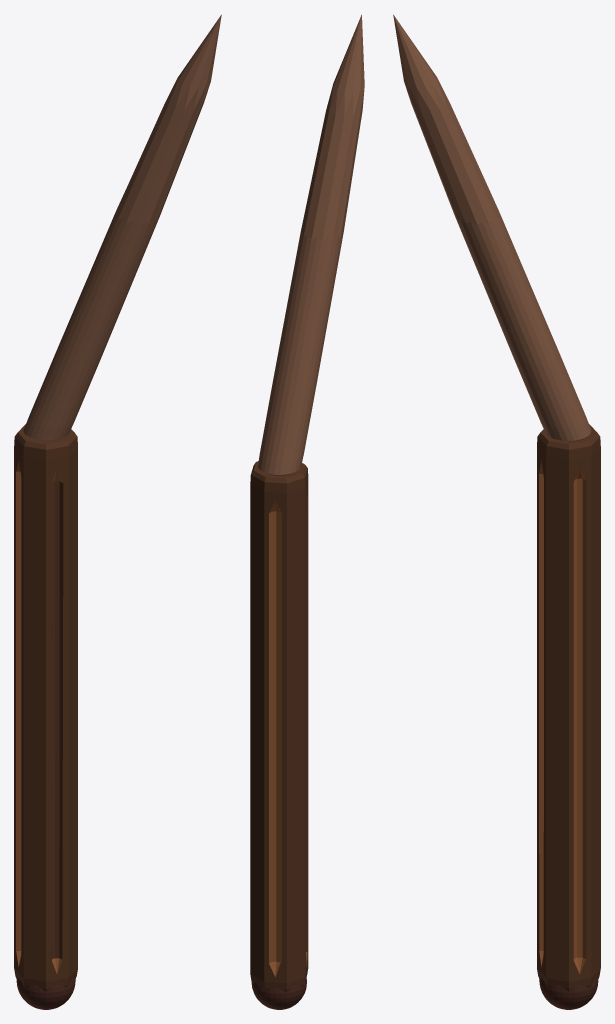
The model's file is Wand 593.glb.
The picture shows the model from 3 angles, left to right: view 1: azimuth 90°, elevation 25°; view 2: azimuth 150°, elevation 25°; view 3: azimuth 270°, elevation 25°; orthographic projection. The views are drawn at different scales.
Visible parts, largest first — view 1: GeneratedWand; view 2: GeneratedWand; view 3: GeneratedWand.
Part boxes in pixels (bbox=[...]): GeneratedWand: bbox=[14, 14, 221, 1009]; GeneratedWand: bbox=[250, 14, 364, 1009]; GeneratedWand: bbox=[393, 14, 600, 1009].
Size of the model in its own units: 0.0289 by 0.4956 by 0.0939.
